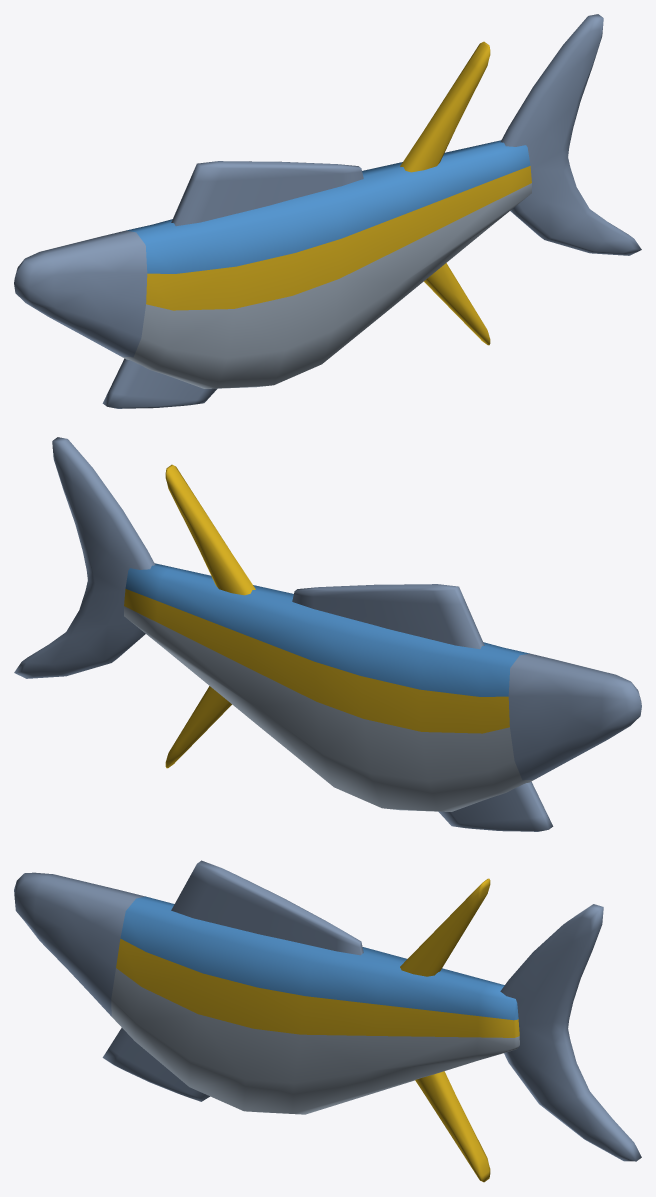
The model's file is Prop_Fish_Tuna.glb.
3 renders of one model, top to bottom at view 1: azimuth 30°, elevation 25°; view 2: azimuth 150°, elevation 25°; view 3: azimuth 330°, elevation 25°, orthographic.
Visible parts, largest first — view 1: Prop_Fish_Tuna; view 2: Prop_Fish_Tuna; view 3: Prop_Fish_Tuna.
Boxes of the visible parts, left/top/right/bottom form: Prop_Fish_Tuna: left=14, top=14, right=641, bottom=408; Prop_Fish_Tuna: left=14, top=437, right=641, bottom=831; Prop_Fish_Tuna: left=14, top=860, right=641, bottom=1182.
Size of the model in its own units: 2.13 by 0.9759 by 0.2368.
1 material, 1 textured.
